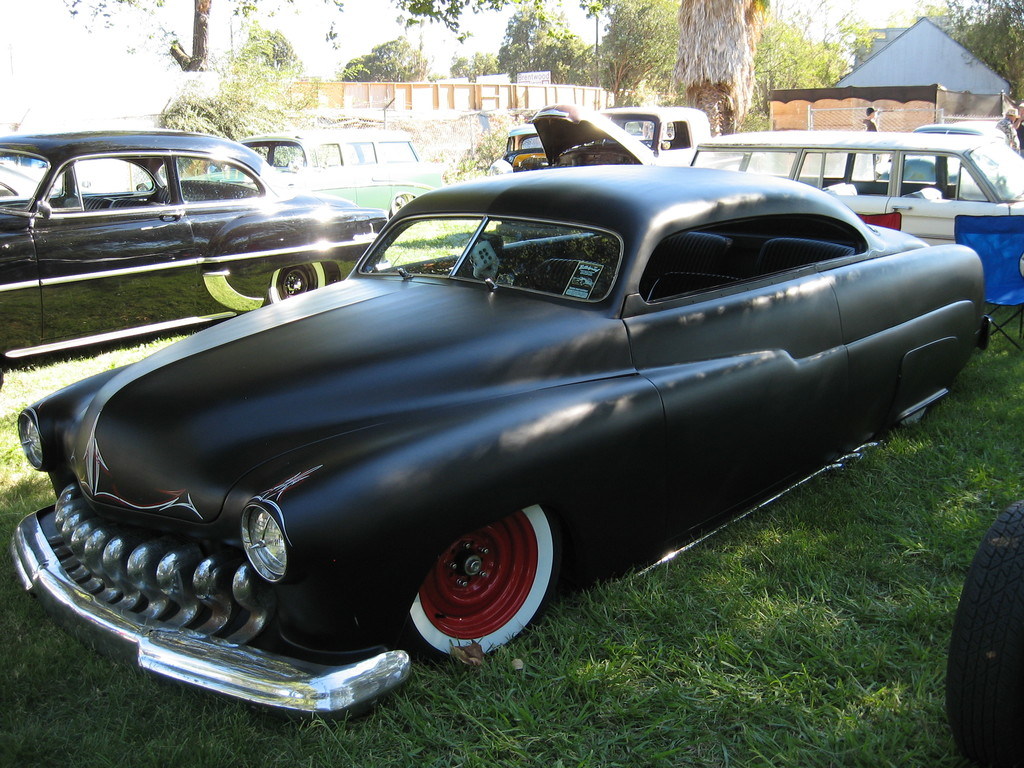cars: (4, 156, 965, 705), (0, 126, 388, 387), (685, 127, 1023, 247), (239, 129, 439, 215), (524, 101, 716, 167), (877, 118, 1011, 182), (505, 125, 547, 170)
